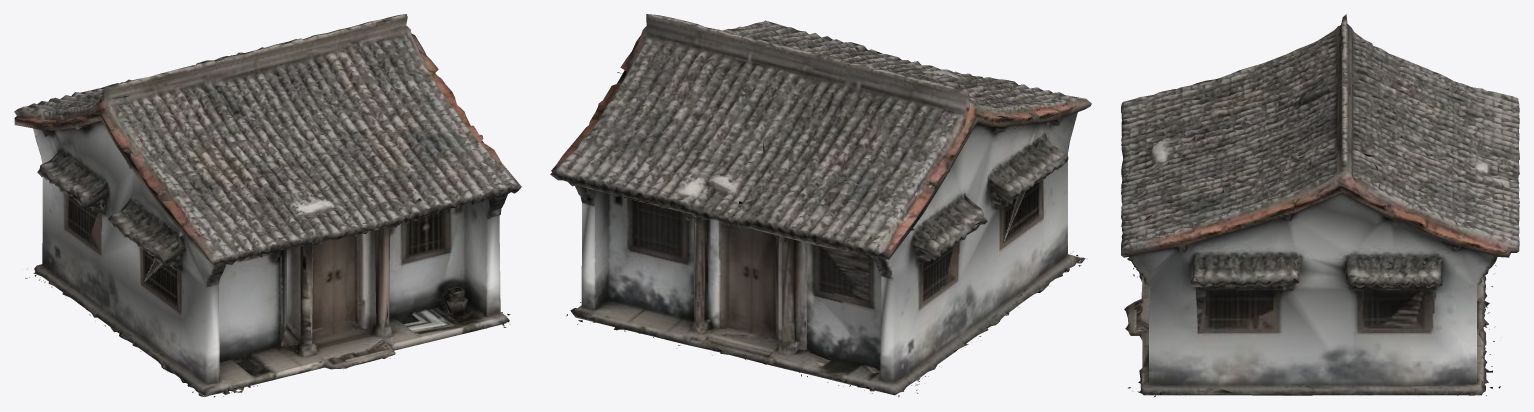
Rendered from bq_house_tiled.bk.glb.
The picture shows the model from 3 angles, left to right: view 1: azimuth 30°, elevation 25°; view 2: azimuth 150°, elevation 25°; view 3: azimuth 270°, elevation 25°; orthographic projection. The views are drawn at different scales.
Parts seen in each view (by area): view 1: lo; view 2: lo; view 3: lo.
Boxes of the visible parts, box(x1,y1,x2,y2) form: lo: box(14, 14, 521, 397); lo: box(550, 14, 1091, 397); lo: box(1121, 14, 1519, 396).
Size of the model in its own units: 1.96 by 1.29 by 1.98.
Materials: 1 (1 with a texture image).
